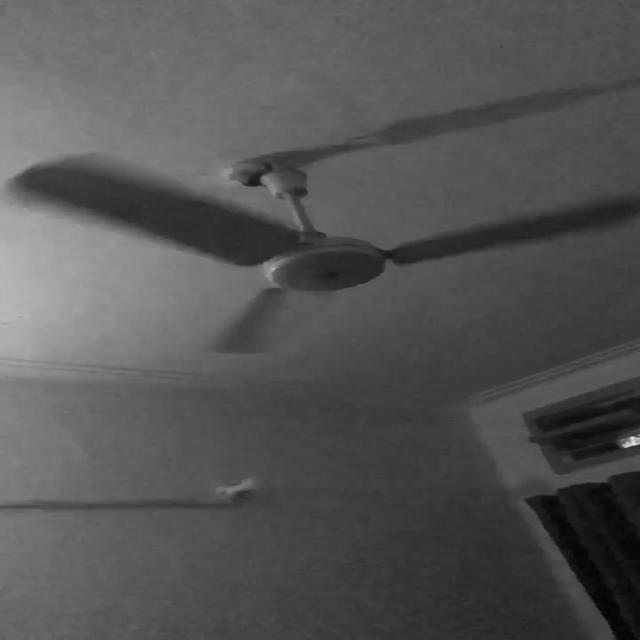fan: (3, 145, 622, 360)
